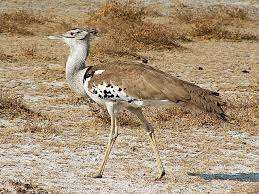Walking: (38, 17, 240, 186)
